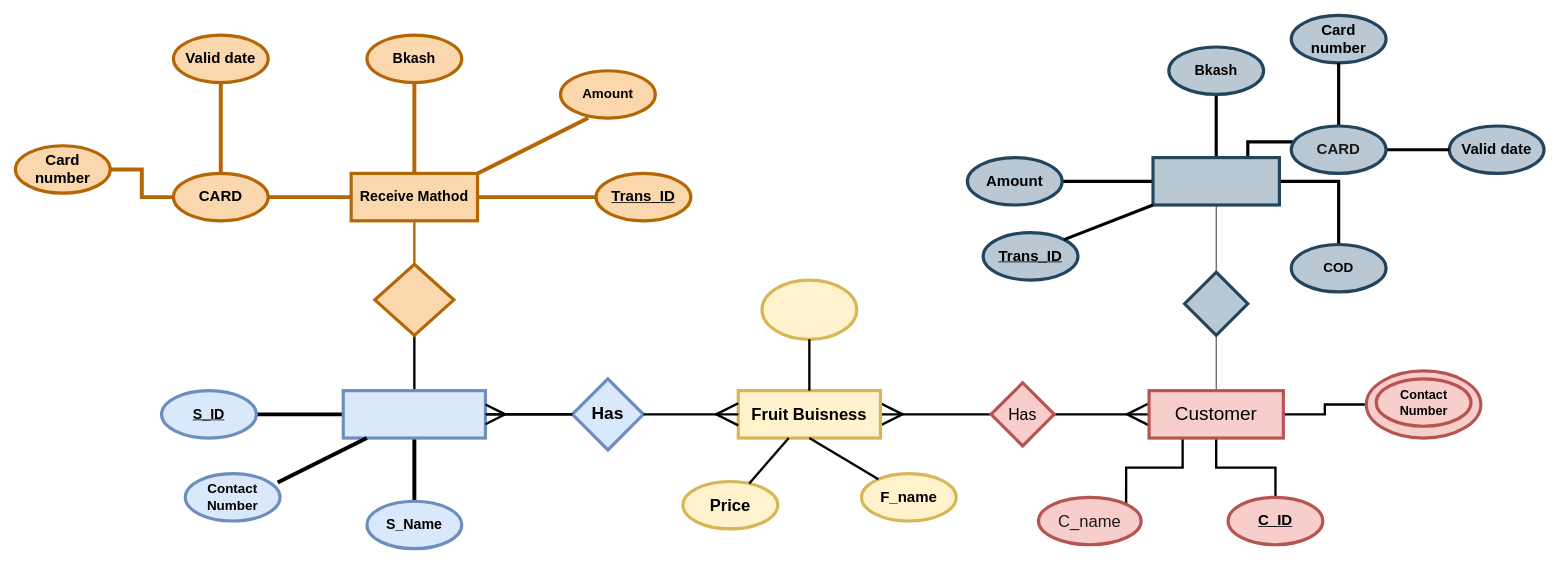
The diagram is 1559 pixels wide and 563 high, and some of its shapes have lost their labels. The centre of each missing label's shape, as x and y in pixels:
"F_ID" goes at (x=809, y=309).
"pay" goes at (x=1216, y=303).
"Payment Method" goes at (x=1216, y=181).
"Receive" goes at (x=414, y=299).
"Saler" goes at (x=414, y=414).
